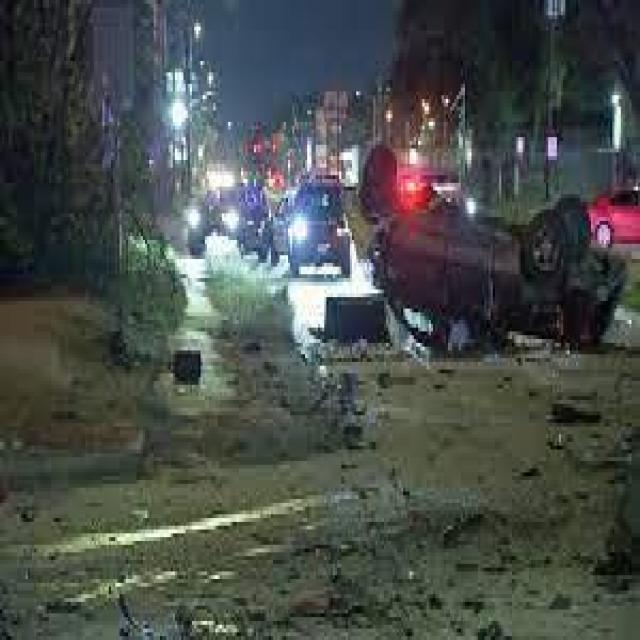accident: (337, 126, 627, 370)
